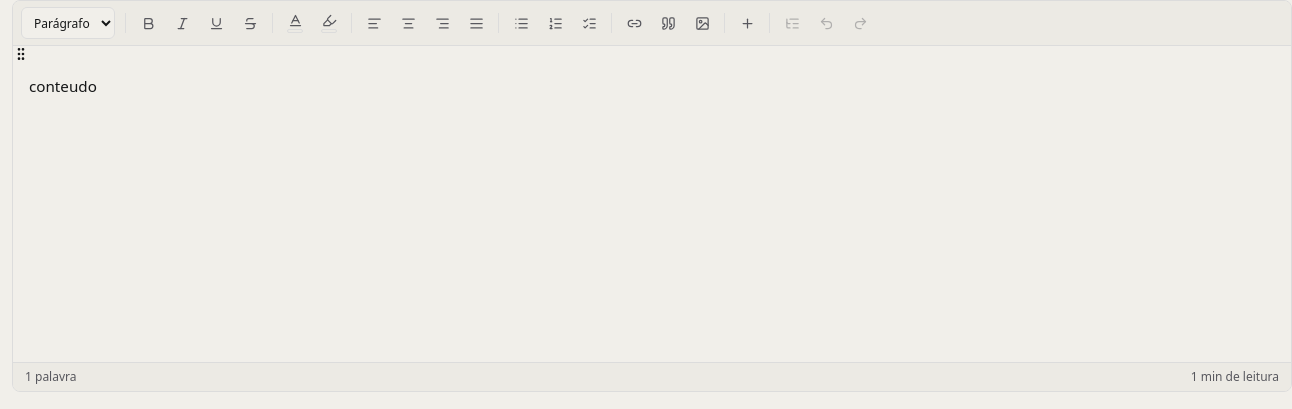
Scenario: RichEditor › mounts every Fase 2 block extension and exposes their toolbar actions
Check: the button titled "Checklist" is shown, box [573, 7, 605, 39]
Click the button titled "Inserir bloco" at (747, 23), box [731, 7, 763, 39]
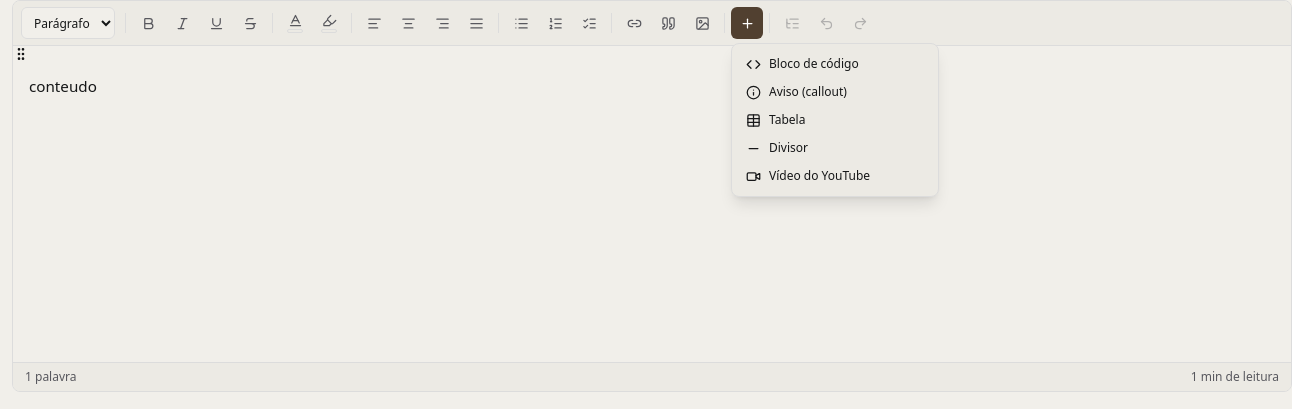
Check: the button "Bloco de código" is shown, box [738, 50, 932, 78]
Check: the button "Aviso (callout)" is shown, box [738, 78, 932, 106]
Check: the button "Tabela" is shown, box [738, 106, 932, 134]
